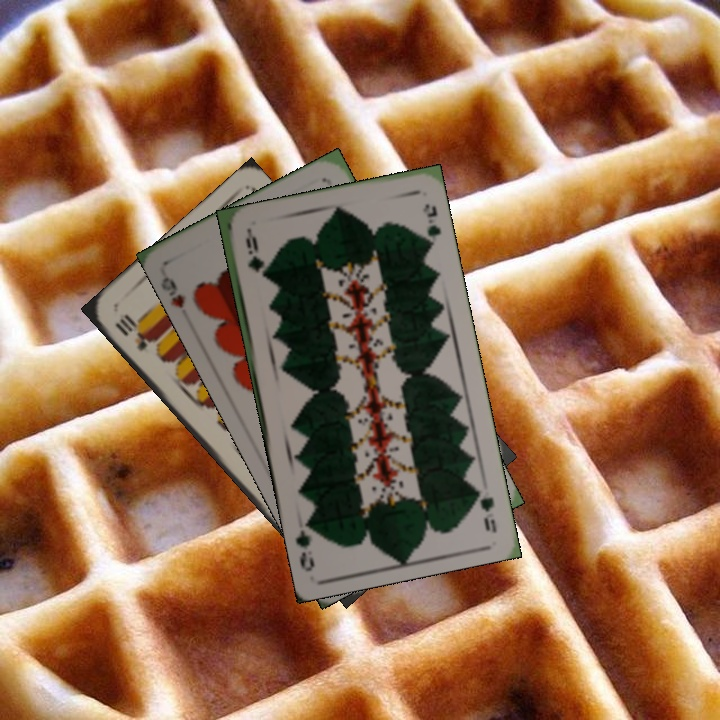E10: (111, 309, 161, 354)
G9: (470, 480, 499, 535), (241, 233, 263, 275)
H9: (158, 272, 189, 311)
